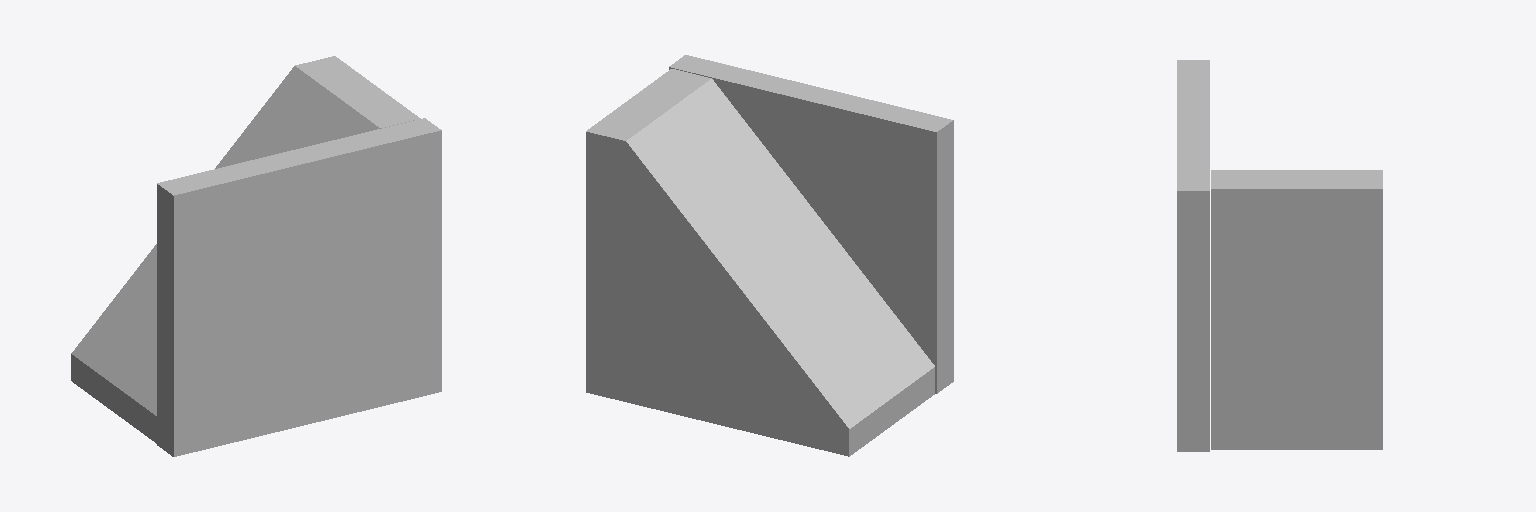
The model's file is Treppe Collider Rechts.obj.
The picture shows the model from 3 angles: view 1: azimuth 30°, elevation 25°; view 2: azimuth 150°, elevation 25°; view 3: azimuth 270°, elevation 25°; orthographic projection.
Visible parts, largest first — view 1: Cube; view 2: Cube; view 3: Cube.
Part boxes in pixels (x1,y1,x2,y2): Cube: (71,56,441,456); Cube: (586,55,953,456); Cube: (1177,60,1382,451).
Bounding box in the file's own units: 1.62 × 1.51 × 1.08.